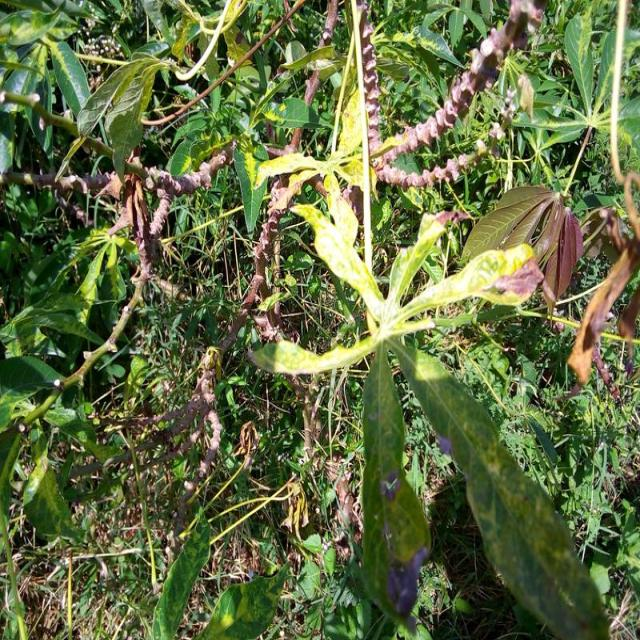cassava leaf: (387, 334, 610, 638), (458, 182, 584, 308)
